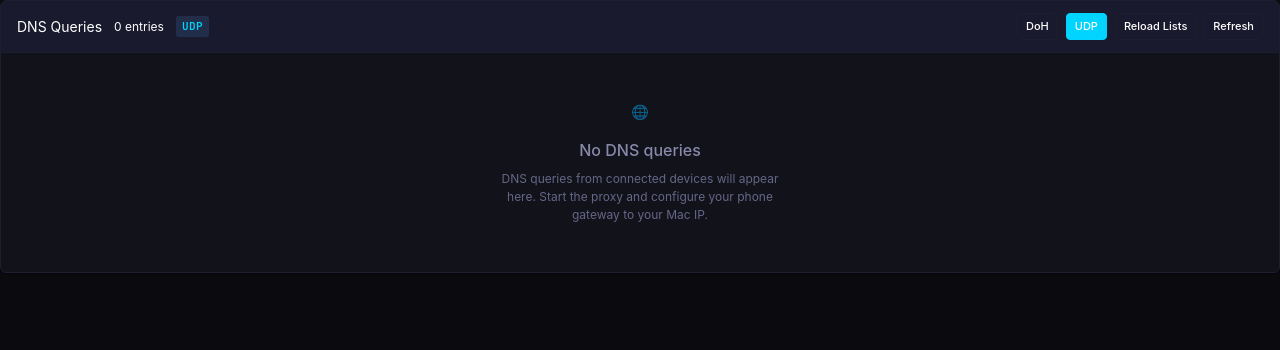
DnsPage › does not switch upstream state when the mutation fails
Expected: the text "No DNS queries" is shown, [579,138,701,162]
Click the button "DoH": (1037, 26) [1017,13,1058,40]
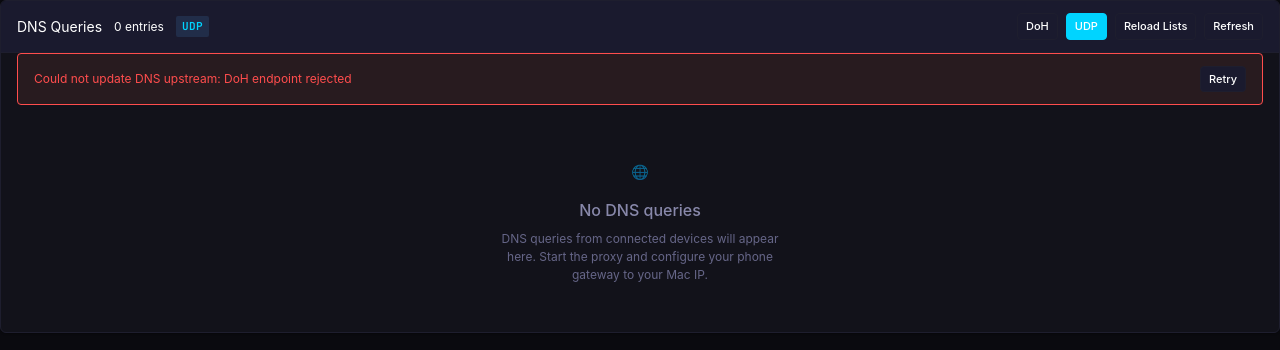
Now the message shows "DoH endpoint rejected", box [34,71,352,86]
